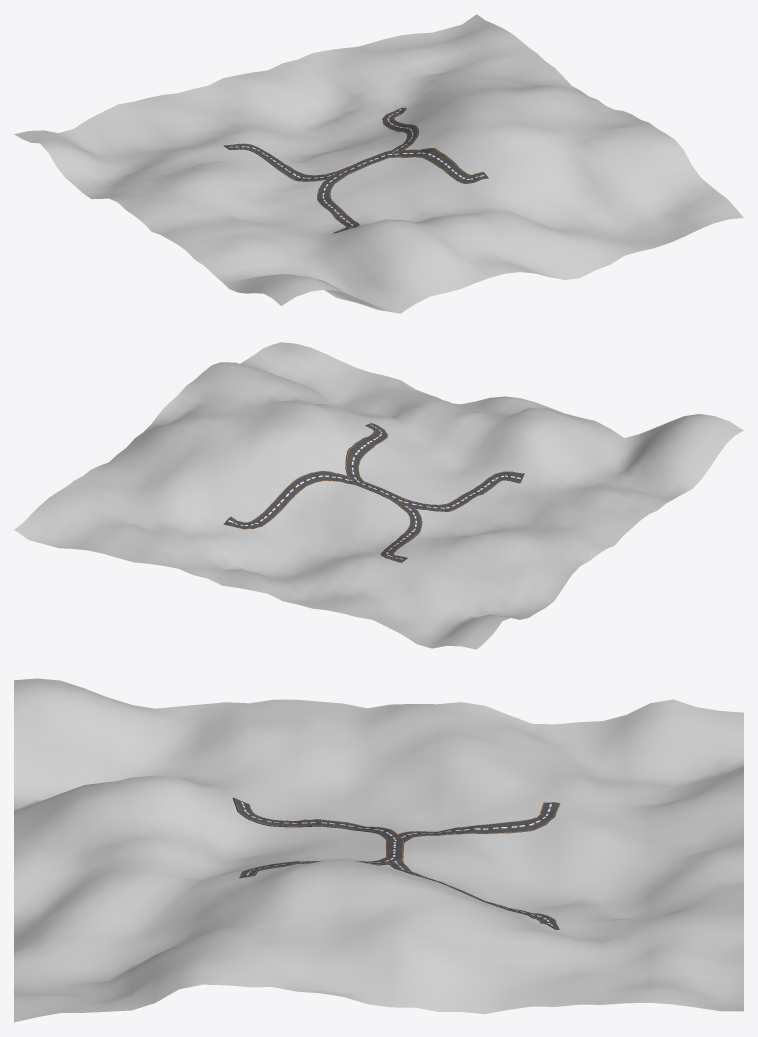
Rendered from Level12B1.fbx.
3 renders of one model, top to bottom at view 1: azimuth 30°, elevation 25°; view 2: azimuth 150°, elevation 25°; view 3: azimuth 270°, elevation 25°, orthographic. The views are drawn at different scales.
Parts seen in each view (by area): view 1: Landscape, Plane.001, Plane.003, Plane.004, Plane.002; view 2: Landscape, Plane.002, Plane.003, Plane.001, Plane.004; view 3: Landscape, Plane.004, Plane.003, Plane.002, Plane.001.
Part boxes in pixels (<box>): Landscape: <box>14,14,743,313</box>; Plane.001: <box>385,148,488,183</box>; Plane.003: <box>317,168,359,233</box>; Plane.004: <box>223,143,348,181</box>; Plane.002: <box>382,107,418,152</box>; Landscape: <box>14,342,743,649</box>; Plane.002: <box>223,471,354,529</box>; Plane.003: <box>394,471,524,511</box>; Plane.001: <box>345,423,387,483</box>; Plane.004: <box>380,499,422,562</box>; Landscape: <box>14,678,743,1022</box>; Plane.004: <box>398,802,560,843</box>; Plane.003: <box>232,797,403,841</box>; Plane.002: <box>389,858,559,929</box>; Plane.001: <box>239,856,401,878</box>.
Bounding box in the file's own units: 40869 × 5443 × 40869.
